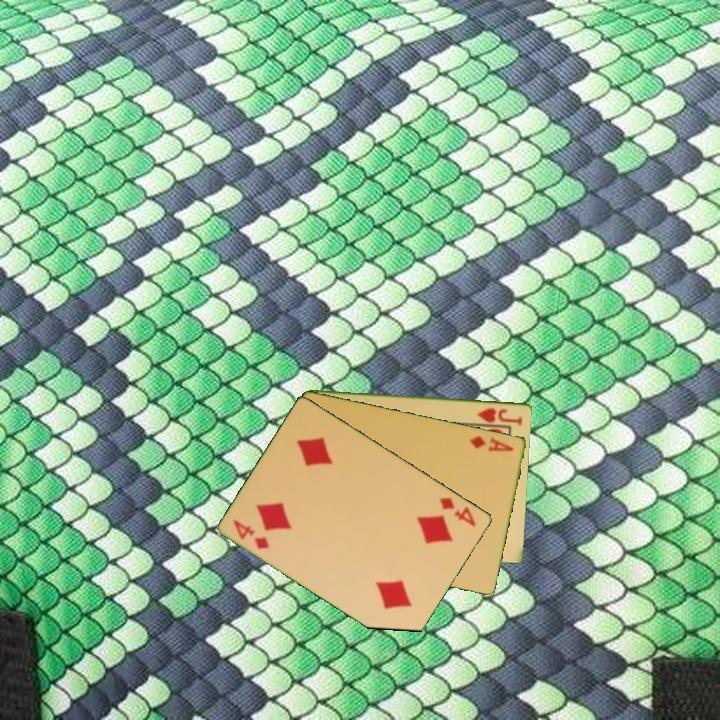4d: (436, 493, 479, 530), (230, 516, 273, 552)
Ad: (466, 432, 516, 455)
Jh: (474, 404, 525, 428)
